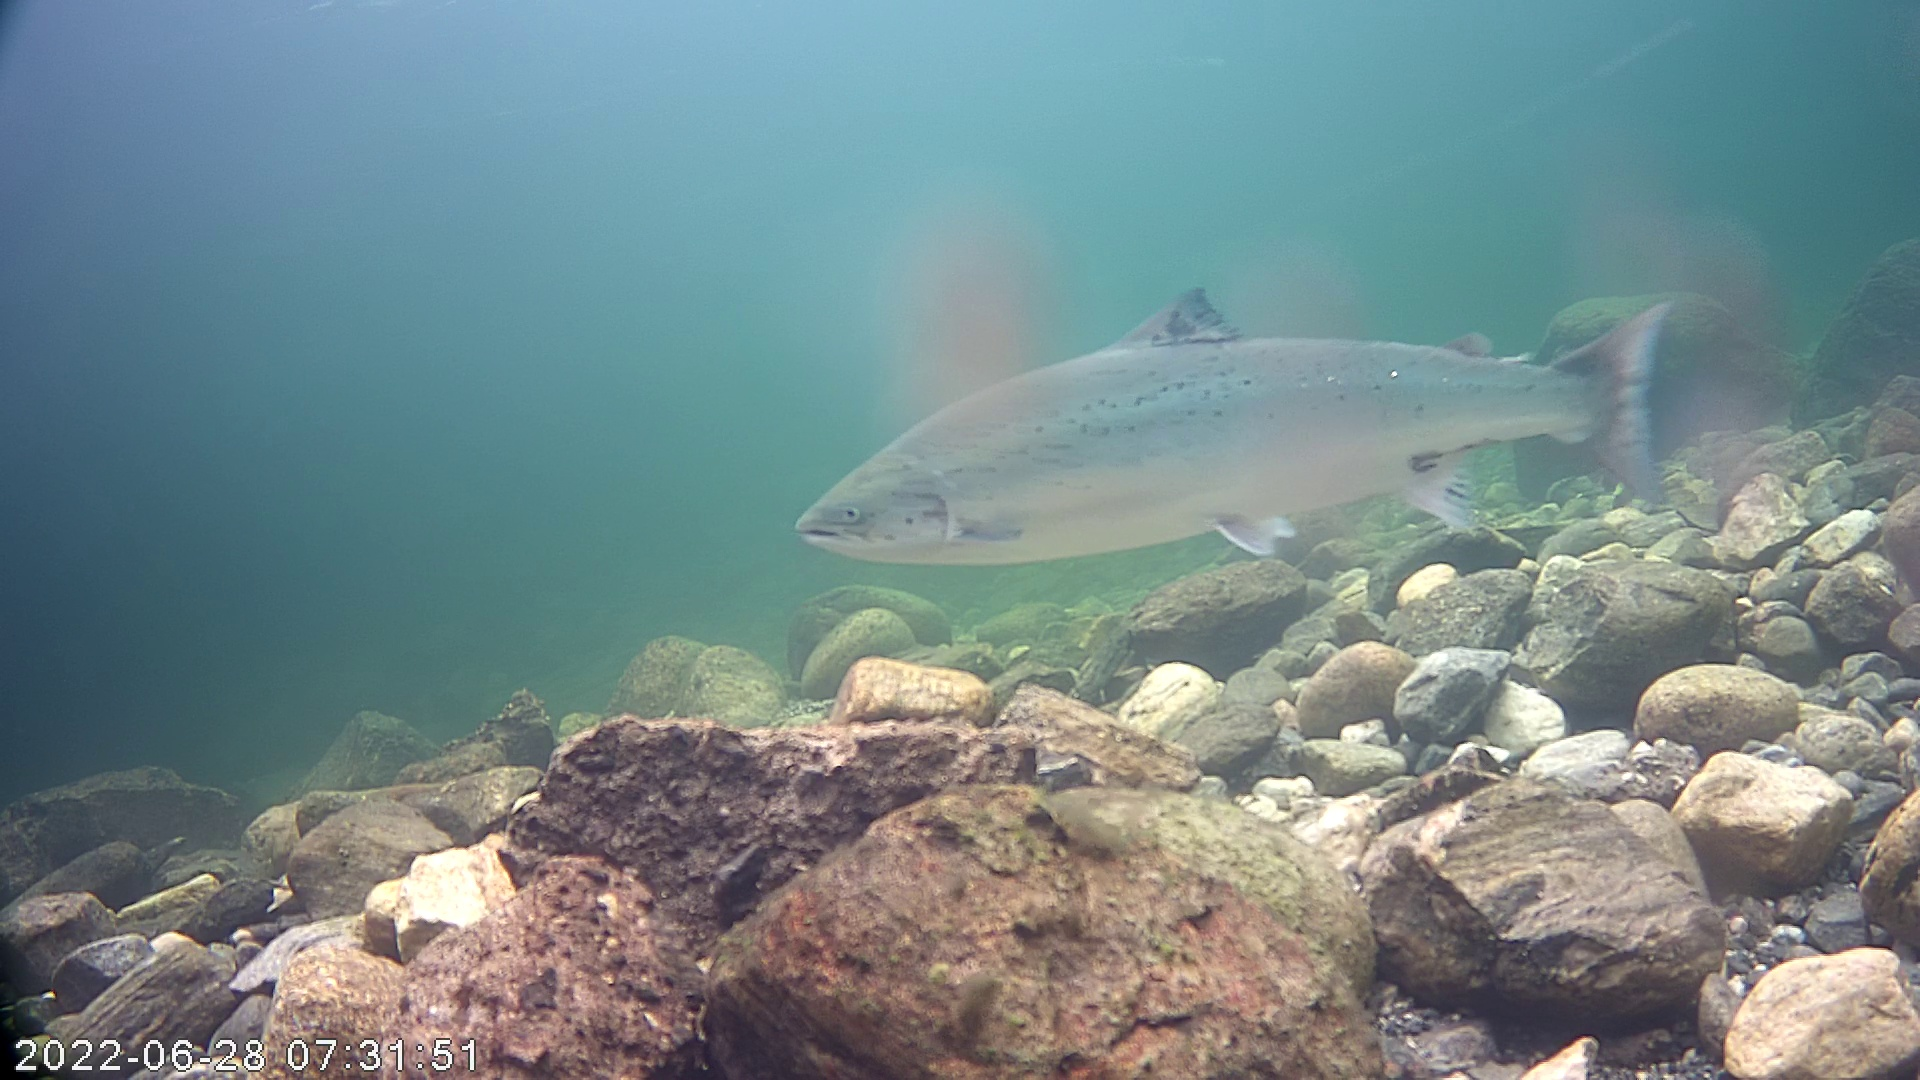salmon: (789, 206, 1701, 612)
